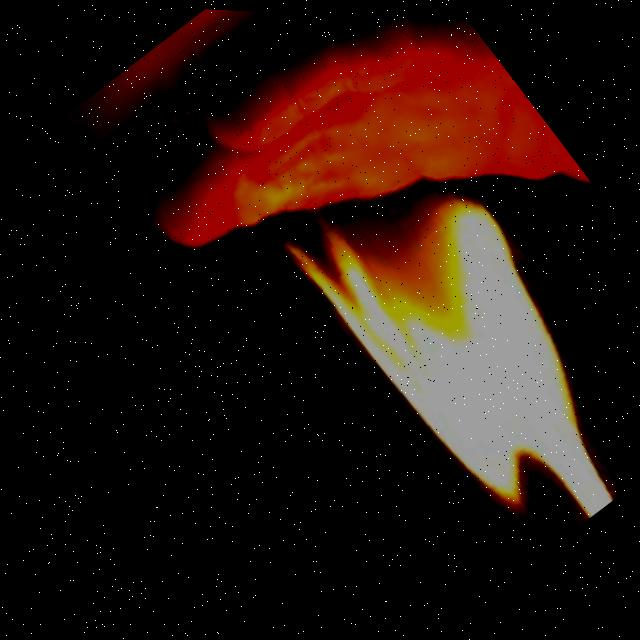Fire: (261, 98, 636, 557)
